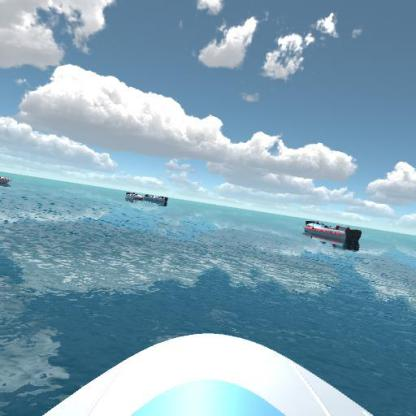usv1: (306, 215, 338, 231), (144, 191, 167, 208)
usv3: (306, 222, 365, 250), (123, 188, 144, 205), (0, 171, 15, 187)
